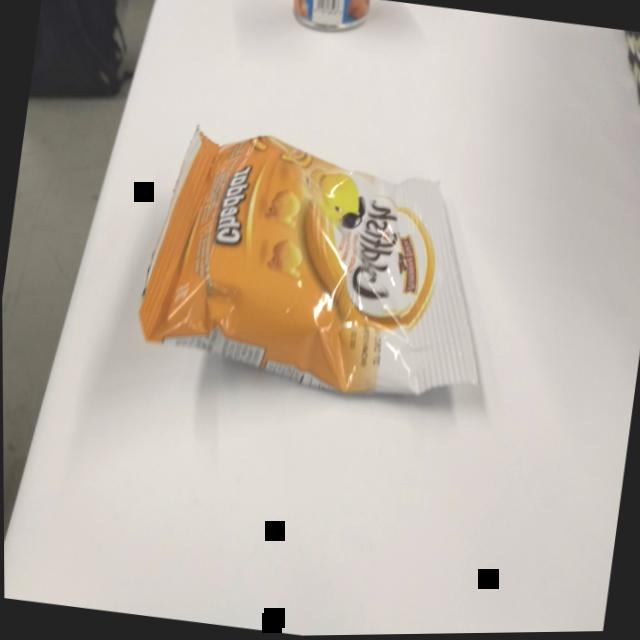crackers: (123, 110, 512, 421)
